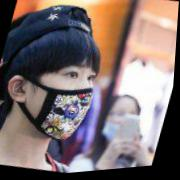OK: (25, 47, 105, 149)
WRONG: (101, 97, 146, 155)
